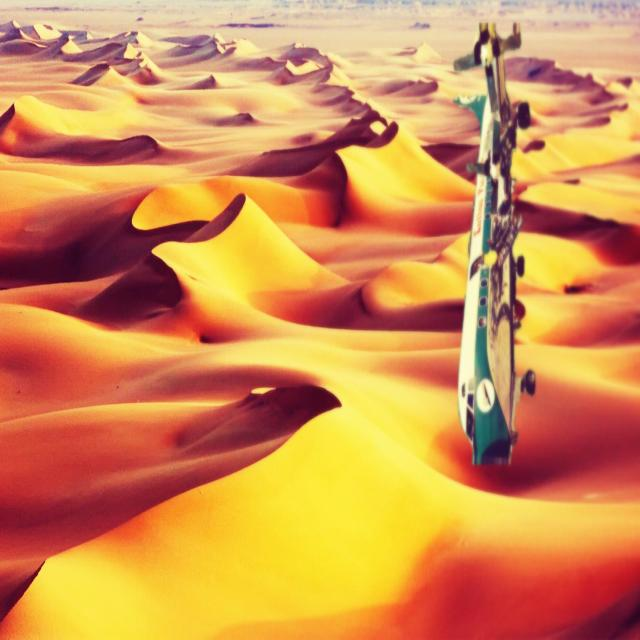airplane: (456, 19, 536, 467)
